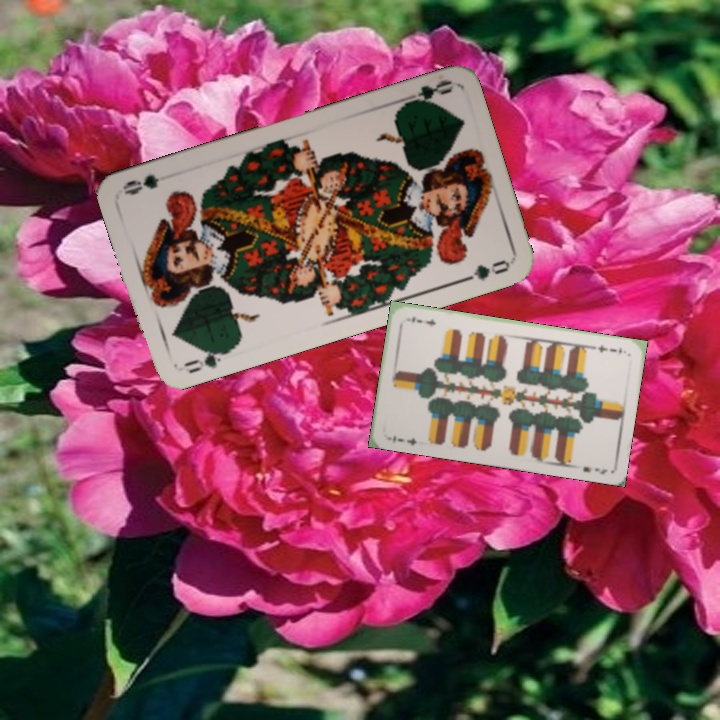E7: (589, 341, 624, 357), (389, 431, 419, 448)
GO: (395, 75, 455, 110), (179, 346, 233, 376)
